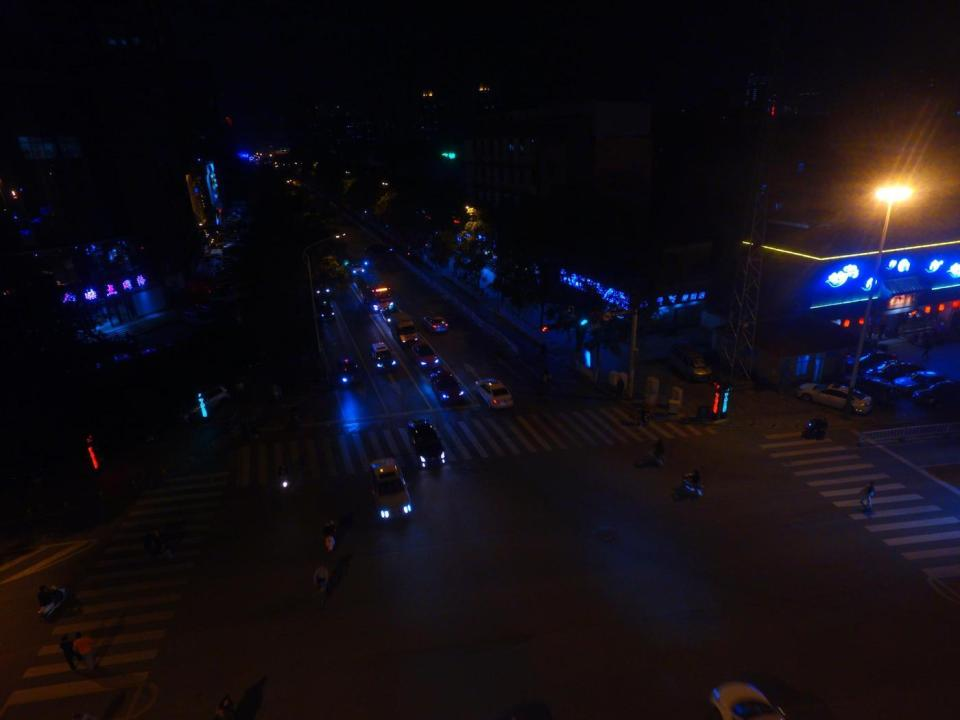bus: (353, 268, 393, 311)
car: (709, 679, 786, 720), (370, 459, 412, 525), (796, 381, 873, 416), (176, 376, 229, 424), (408, 420, 446, 468), (862, 362, 924, 386), (892, 372, 952, 396), (846, 350, 899, 376), (429, 370, 465, 406), (474, 379, 513, 411), (913, 380, 960, 406), (184, 299, 224, 328), (408, 341, 439, 370), (368, 342, 398, 370), (337, 356, 362, 388), (392, 320, 421, 347), (423, 313, 449, 334), (380, 308, 405, 328), (320, 300, 336, 320), (314, 276, 329, 296)
van: (667, 342, 713, 380)
